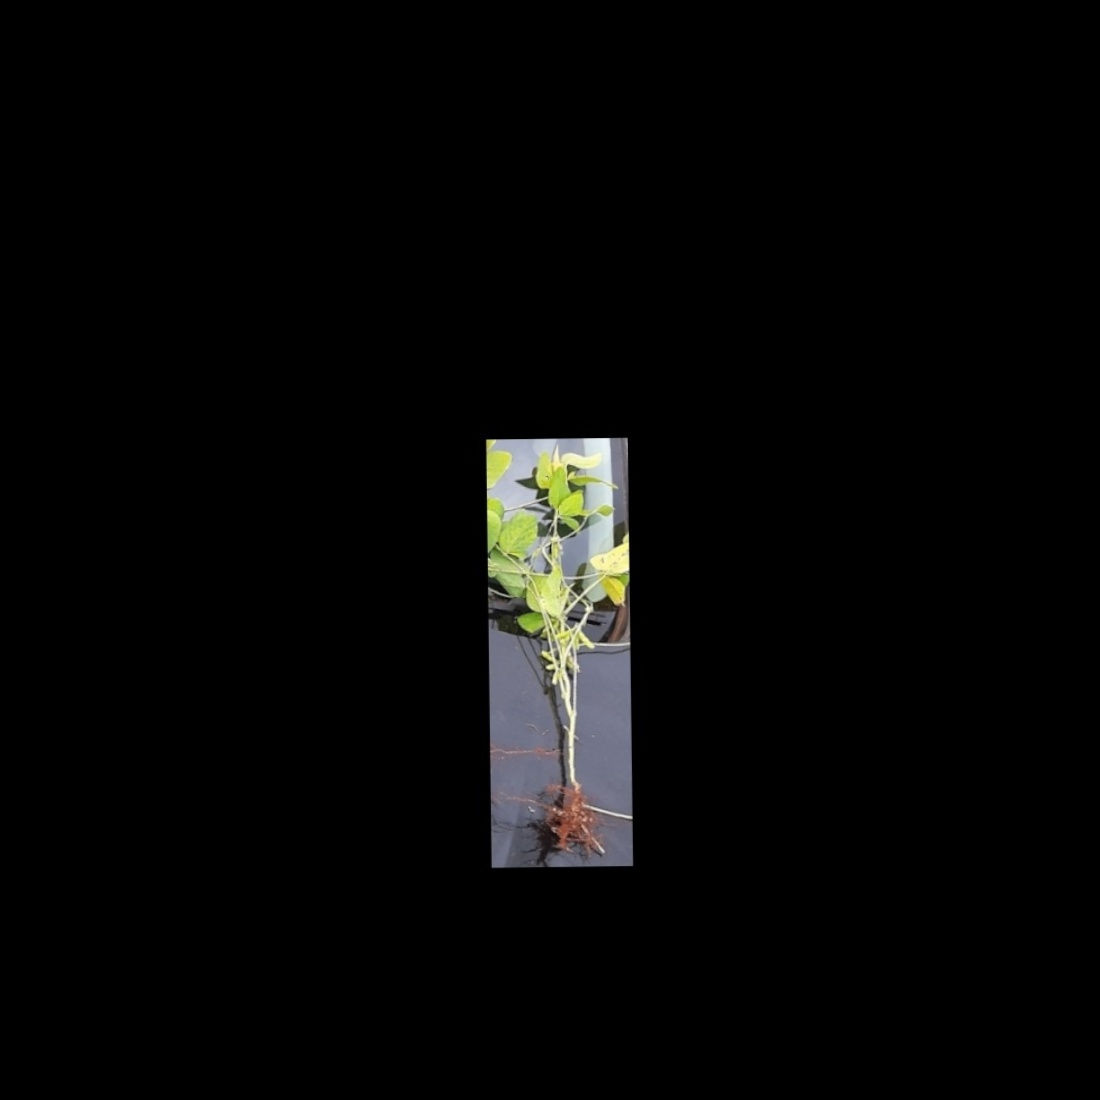pod: (576, 627, 597, 651), (538, 647, 553, 665), (549, 669, 559, 688)
soy: (496, 453, 629, 852)
